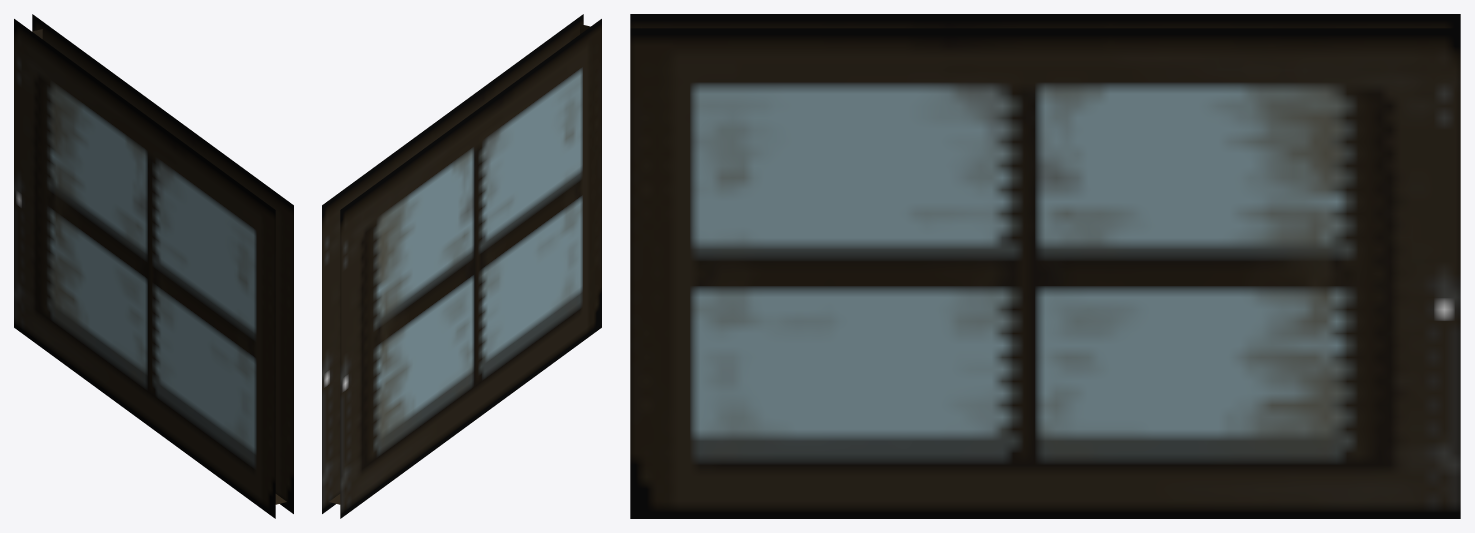
The model's file is pz_native_fixtures_windows_01_0_frame.obj.
3 renders of one model, left to right at view 1: azimuth 30°, elevation 25°; view 2: azimuth 150°, elevation 25°; view 3: azimuth 270°, elevation 25°, orthographic. The views are drawn at different scales.
Parts seen in each view (by area): view 1: pz_native_fixtures_windows_01_0_frame; view 2: pz_native_fixtures_windows_01_0_frame; view 3: pz_native_fixtures_windows_01_0_frame.
Part boxes in pixels (box(x1,y1,x2,y2)): pz_native_fixtures_windows_01_0_frame: box(14, 14, 293, 518); pz_native_fixtures_windows_01_0_frame: box(322, 14, 601, 518); pz_native_fixtures_windows_01_0_frame: box(630, 14, 1460, 518).
Bounding box in the file's own units: 0.04 × 0.6406 × 0.9823.
1 material, 1 textured.
